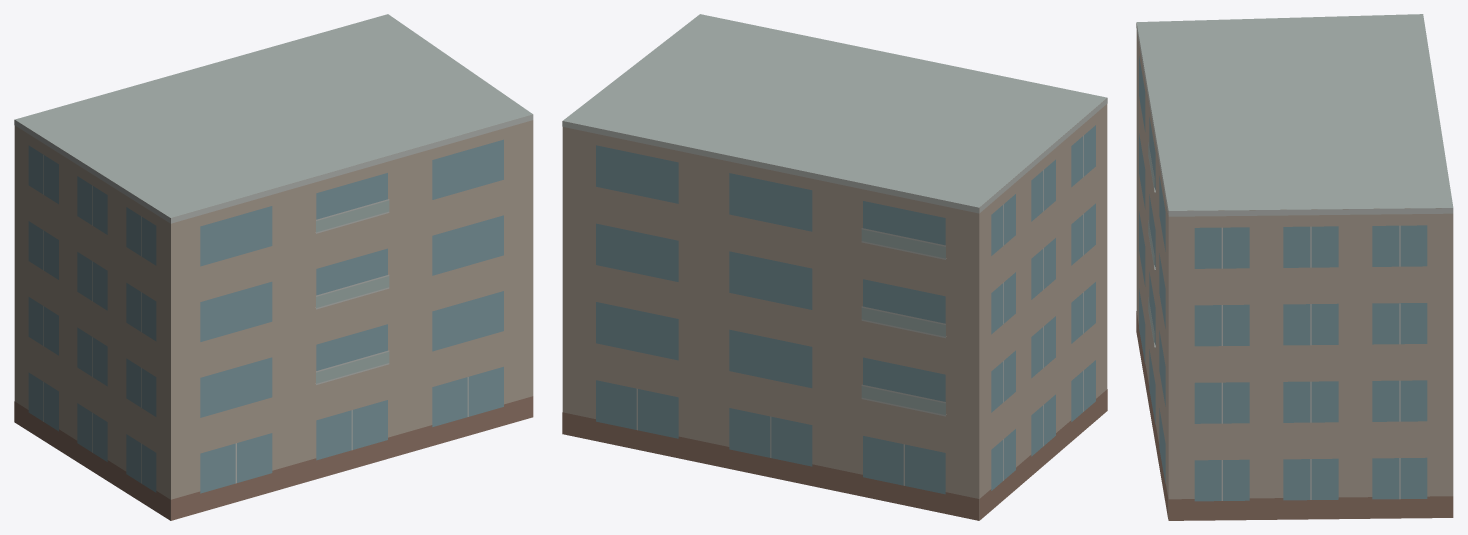
Rendered from survey-upis-32727675.glb.
The picture shows the model from 3 angles, left to right: view 1: azimuth 30°, elevation 25°; view 2: azimuth 150°, elevation 25°; view 3: azimuth 270°, elevation 25°; orthographic projection. The views are drawn at different scales.
Visible parts, largest first — view 1: survey-upis-32727675.tmp; view 2: survey-upis-32727675.tmp; view 3: survey-upis-32727675.tmp.
Boxes of the visible parts, x1,y1,x2,y2 form: survey-upis-32727675.tmp: [14, 14, 533, 520]; survey-upis-32727675.tmp: [562, 14, 1107, 520]; survey-upis-32727675.tmp: [1136, 14, 1453, 520].
Size of the model in its own units: 17.85 by 13.09 by 12.14.
